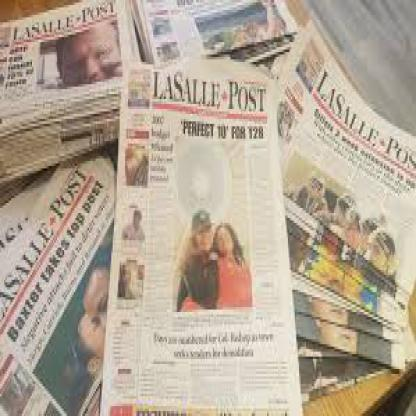paper: (99, 62, 302, 413), (278, 17, 415, 297), (0, 151, 116, 414), (0, 0, 144, 191), (286, 213, 408, 329), (131, 0, 299, 75), (296, 315, 415, 401), (292, 288, 405, 372)
